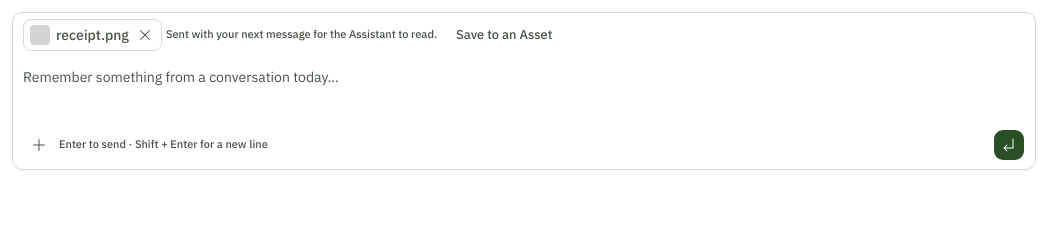
Test: sends a private file reference with the question and clears the picked file
This screenshot has width=1048, height=242.
Type "What does this say?" into the text box with placeholder "Remember something from a conversation today…" at (524, 91), box [13,59,1035,123]
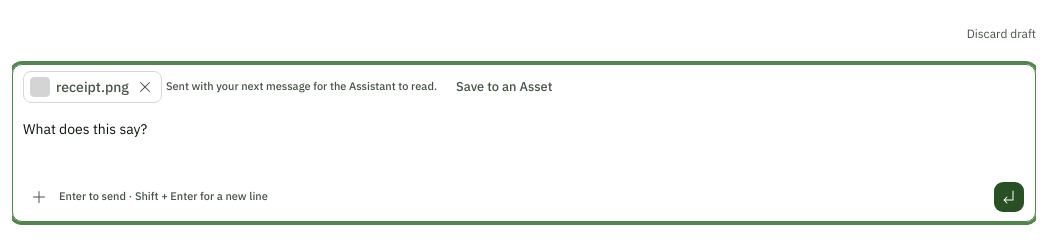
Click the button named "Submit" at (1009, 197), box [993,181,1025,213]
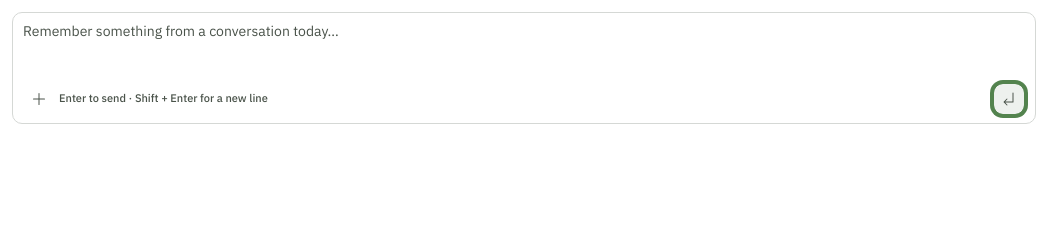
Check: the text "receipt.png" is gone
